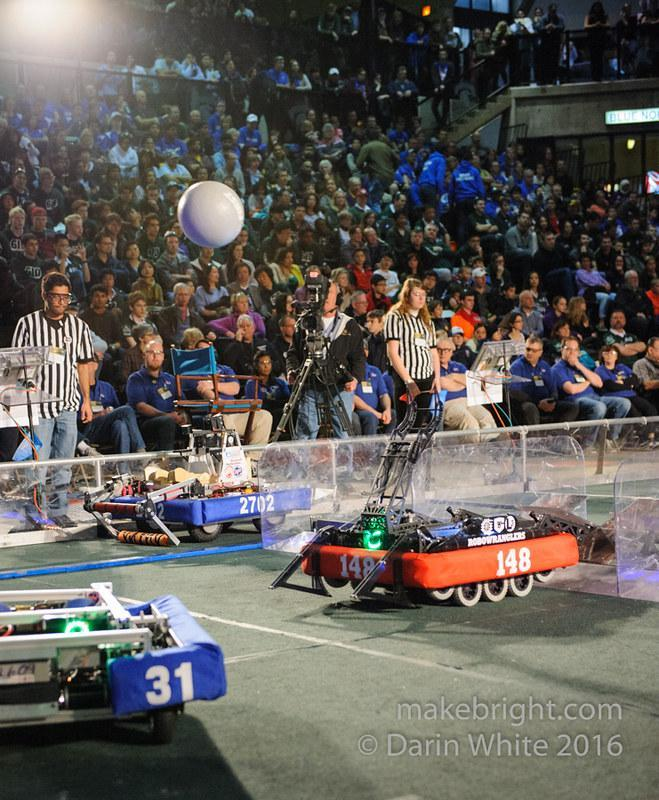robot: (302, 387, 578, 609), (82, 340, 312, 540), (0, 580, 227, 747)
